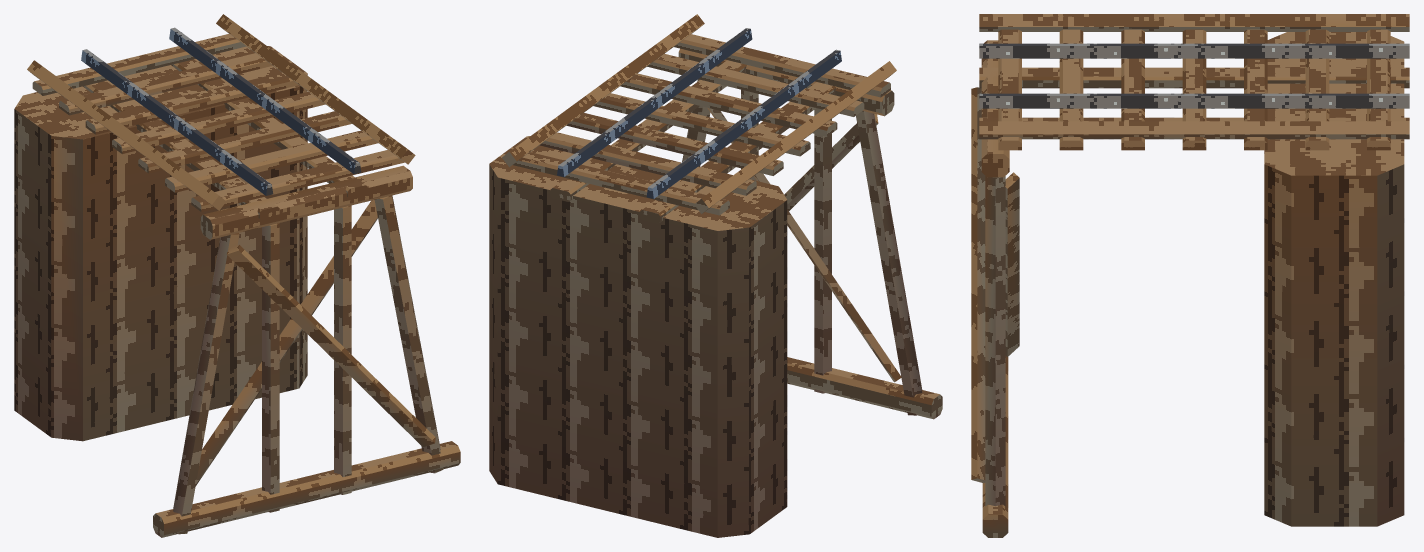
Rendered from wrail.trestle__end.glb.
3 renders of one model, left to right at view 1: azimuth 30°, elevation 25°; view 2: azimuth 150°, elevation 25°; view 3: azimuth 270°, elevation 25°, orthographic. The views are drawn at different scales.
Parts seen in each view (by area): view 1: kit_crib, kit_ties, kit_bents, kit_braces, kit_sills, kit_rails, kit_guards, kit_caps, kit_stringers; view 2: kit_crib, kit_ties, kit_bents, kit_rails, kit_guards, kit_stringers, kit_sills, kit_braces, kit_caps; view 3: kit_crib, kit_guards, kit_rails, kit_ties, kit_braces, kit_bents, kit_stringers, kit_caps, kit_sills.
Boxes of the visible parts, x1,y1,x2,y2 form: kit_crib: [14, 46, 307, 441]; kit_ties: [32, 33, 404, 211]; kit_bents: [173, 195, 443, 534]; kit_braces: [195, 200, 435, 485]; kit_sills: [153, 441, 460, 537]; kit_rails: [81, 27, 361, 195]; kit_guards: [27, 14, 415, 210]; kit_caps: [200, 165, 412, 239]; kit_stringers: [83, 59, 367, 220]; kit_crib: [489, 133, 787, 537]; kit_ties: [513, 34, 890, 215]; kit_bents: [682, 79, 922, 415]; kit_rails: [557, 28, 841, 198]; kit_guards: [502, 14, 896, 213]; kit_stringers: [550, 60, 836, 223]; kit_sills: [787, 357, 942, 419]; kit_braces: [707, 107, 901, 382]; kit_caps: [678, 48, 894, 116]; kit_crib: [1264, 32, 1404, 526]; kit_guards: [979, 14, 1409, 139]; kit_rails: [979, 43, 1409, 108]; kit_ties: [998, 29, 1390, 150]; kit_braces: [971, 87, 1019, 483]; kit_bents: [985, 176, 1005, 506]; kit_stringers: [979, 67, 1409, 121]; kit_caps: [981, 40, 1009, 177]; kit_sills: [982, 356, 1008, 537].
Bounding box in the file's own units: 3.7 × 3.98 × 4.07.
3 materials, 3 textured.
